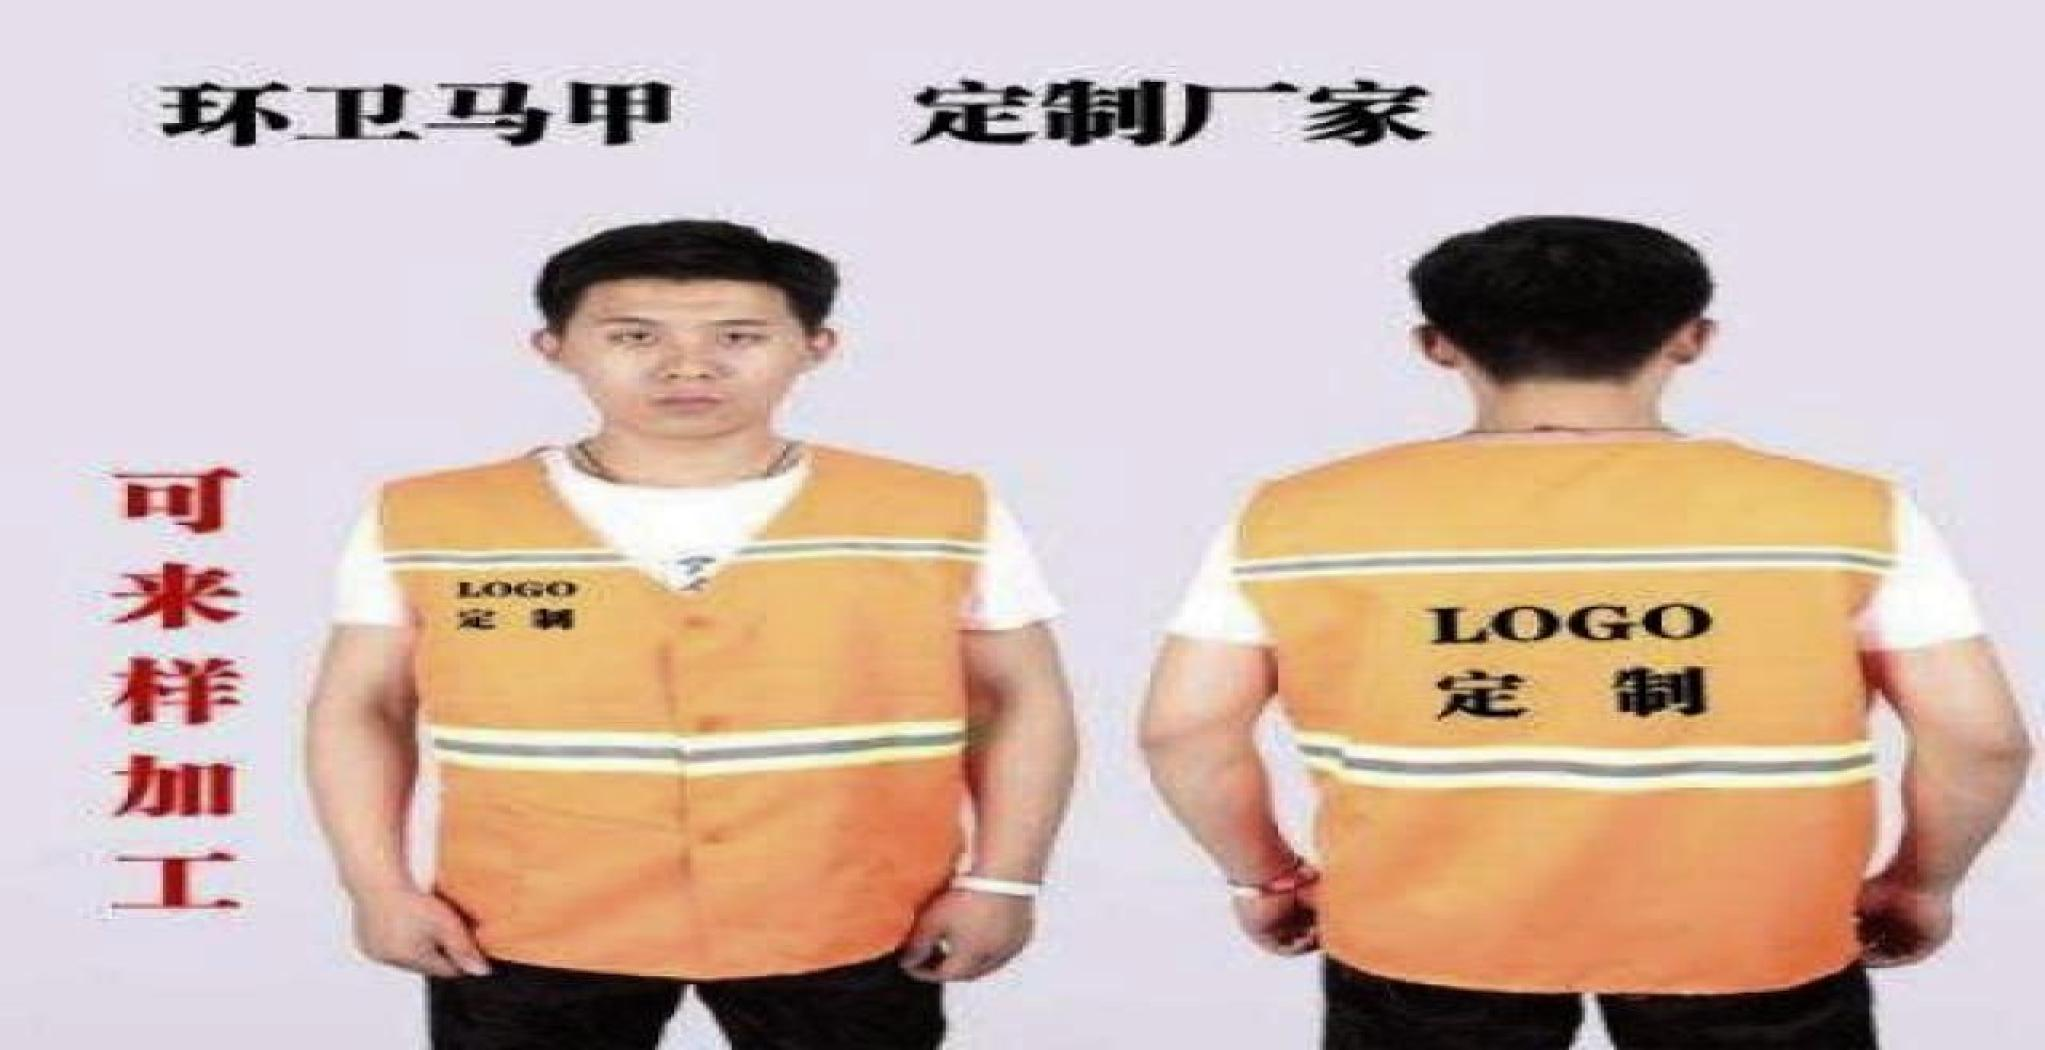not-gloved: (860, 867, 1085, 999), (342, 899, 549, 1010), (1853, 861, 2020, 975), (1179, 853, 1341, 966)
